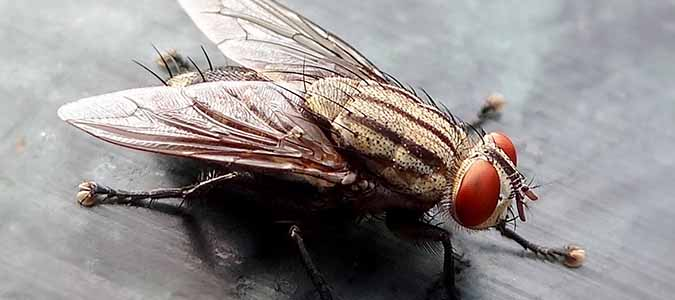fly: (70, 1, 596, 300)
